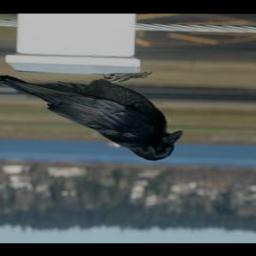Crow: (0, 73, 183, 163)
